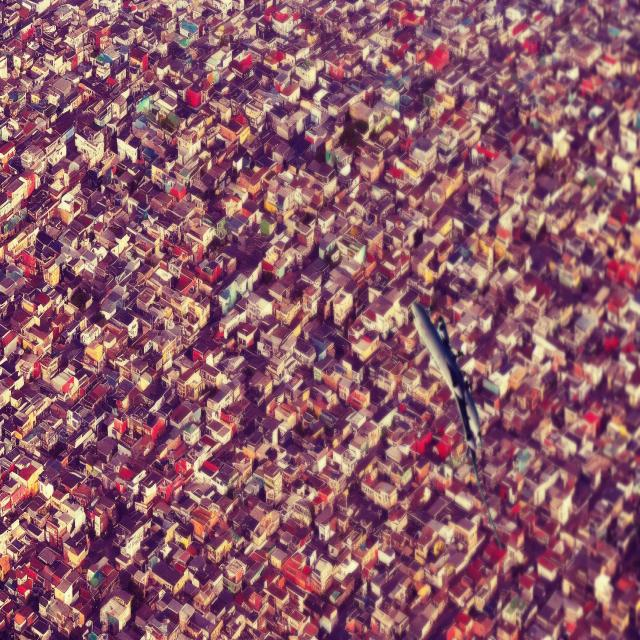airplane: (410, 299, 504, 552)
